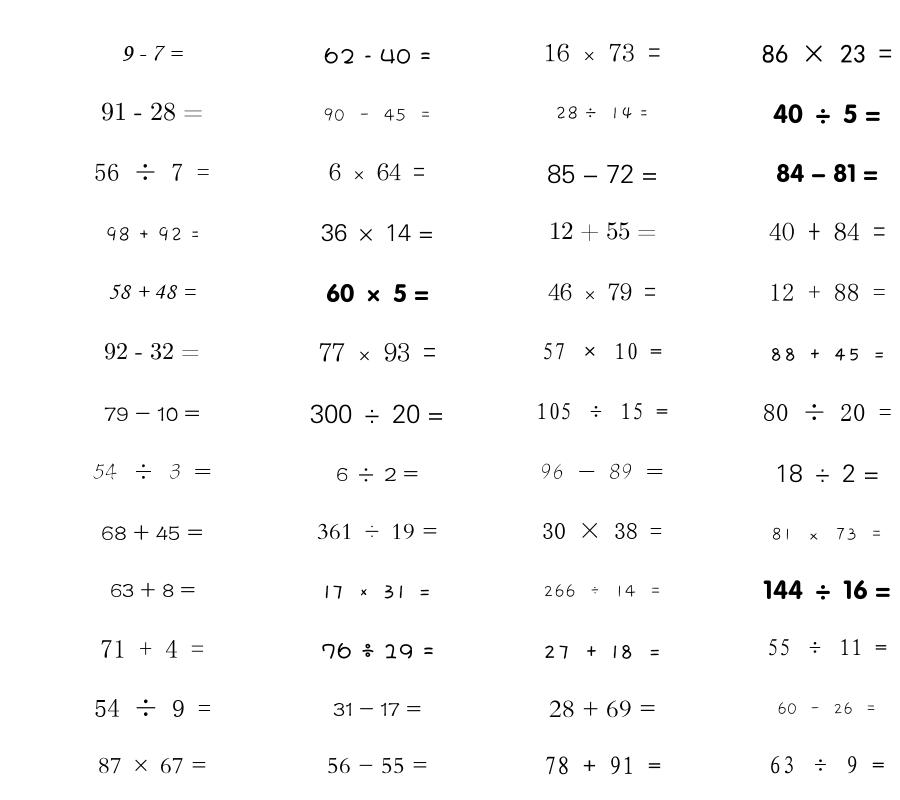MQ: (310, 404, 444, 424), (763, 580, 891, 600), (762, 44, 892, 63), (536, 402, 668, 420), (319, 342, 436, 362), (763, 403, 892, 421), (544, 43, 661, 62), (769, 222, 886, 241), (544, 756, 661, 775), (547, 164, 658, 184), (773, 104, 881, 124), (542, 342, 662, 360), (767, 638, 887, 656), (321, 223, 434, 242), (549, 222, 656, 242), (769, 283, 886, 301), (94, 699, 211, 717), (94, 163, 210, 181), (769, 756, 885, 774), (326, 283, 429, 303), (317, 523, 438, 540), (776, 163, 878, 183), (542, 522, 662, 539), (93, 463, 212, 480), (540, 463, 664, 479), (775, 464, 879, 483), (100, 639, 204, 658), (548, 283, 656, 301), (101, 102, 203, 121), (549, 700, 656, 718), (321, 642, 434, 659), (98, 757, 207, 774), (324, 47, 431, 64), (543, 644, 662, 659), (101, 524, 203, 541), (329, 163, 425, 181), (104, 342, 200, 360), (327, 757, 428, 774), (543, 584, 662, 598), (771, 527, 883, 541), (323, 108, 432, 122), (323, 585, 432, 599), (769, 348, 886, 361), (105, 226, 200, 242), (110, 582, 195, 598), (104, 407, 200, 421), (108, 284, 196, 299), (555, 106, 649, 120), (777, 702, 877, 715), (333, 702, 421, 716), (336, 467, 418, 482), (121, 45, 183, 61)
